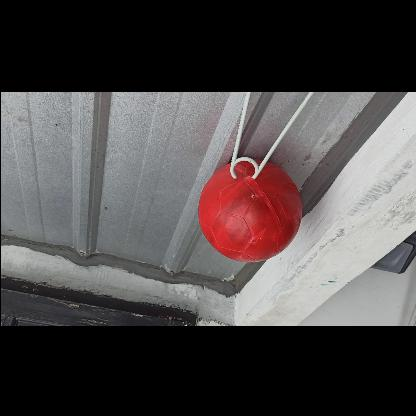red_ball: (197, 159, 301, 263)
